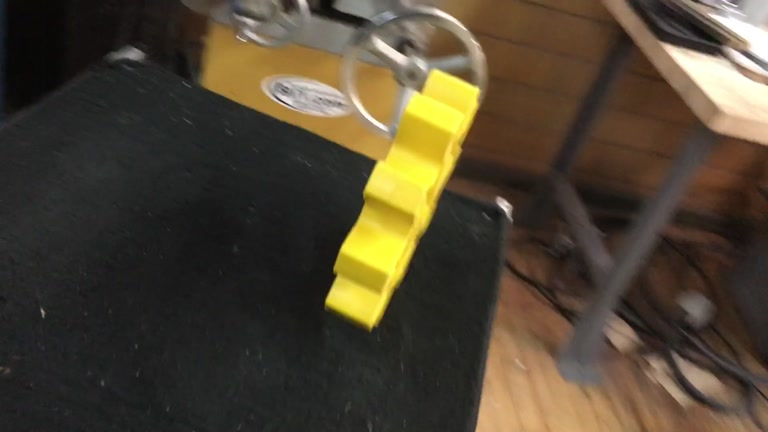gear: (324, 67, 482, 333)
